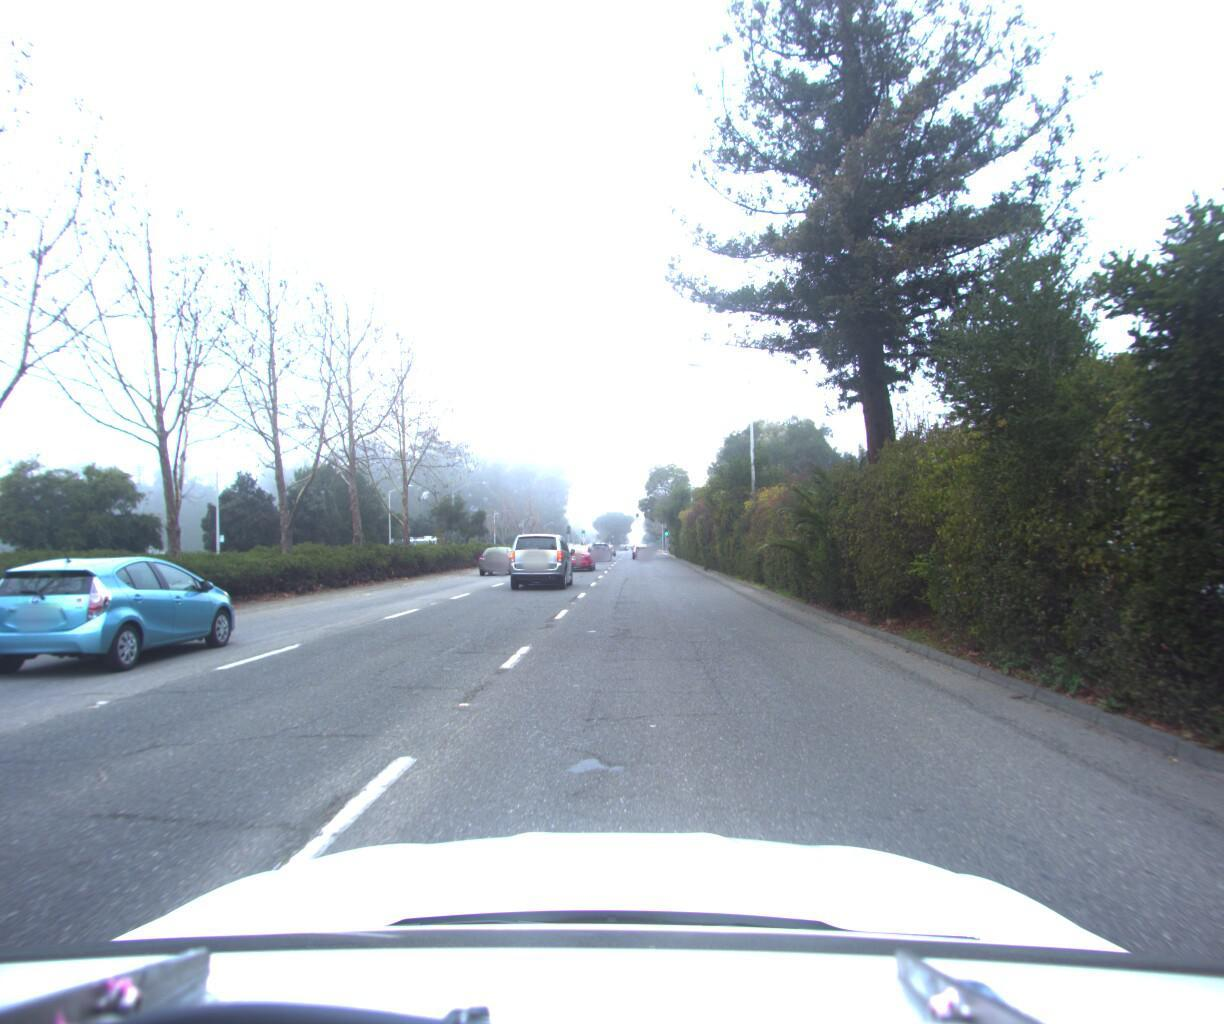car: (0, 553, 262, 683), (500, 528, 575, 590), (474, 541, 523, 573), (559, 539, 599, 567), (590, 535, 613, 555), (631, 534, 651, 553)
emergency_vehicle: (404, 531, 456, 560)
